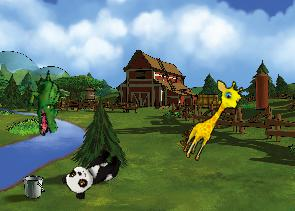crocodile: (18, 69, 74, 138)
giraffe: (179, 74, 247, 168)
panda: (59, 142, 126, 203)
